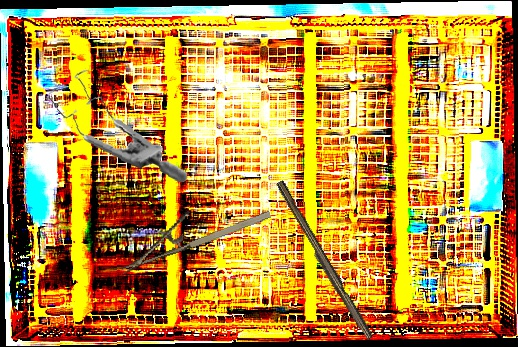Needle Holder: (111, 186, 273, 274)
Scalpel Handle: (270, 179, 377, 343)
Speculum: (40, 66, 197, 183)
